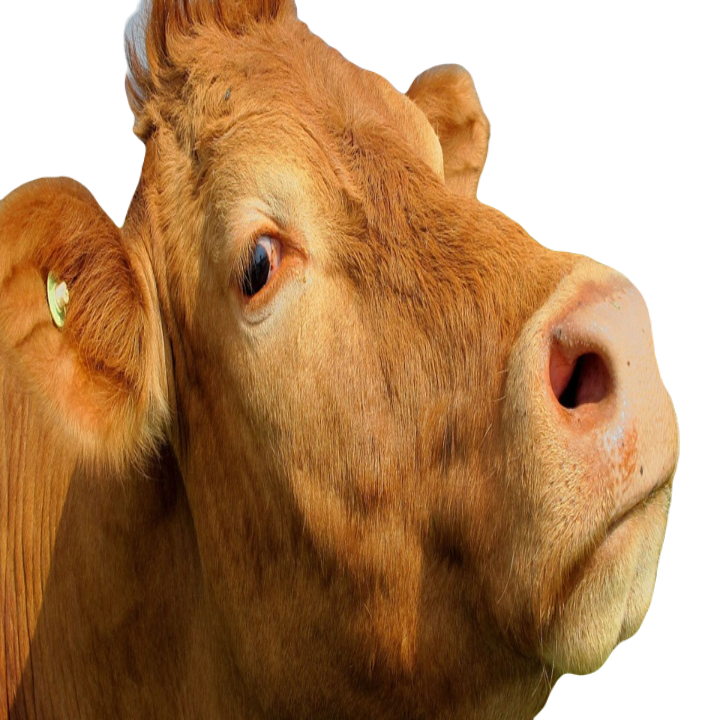Cow: (0, 0, 682, 717)
